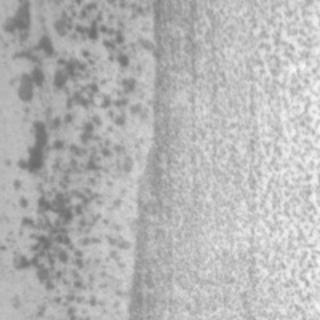pitted_surface: (154, 0, 316, 318), (12, 0, 144, 284)
